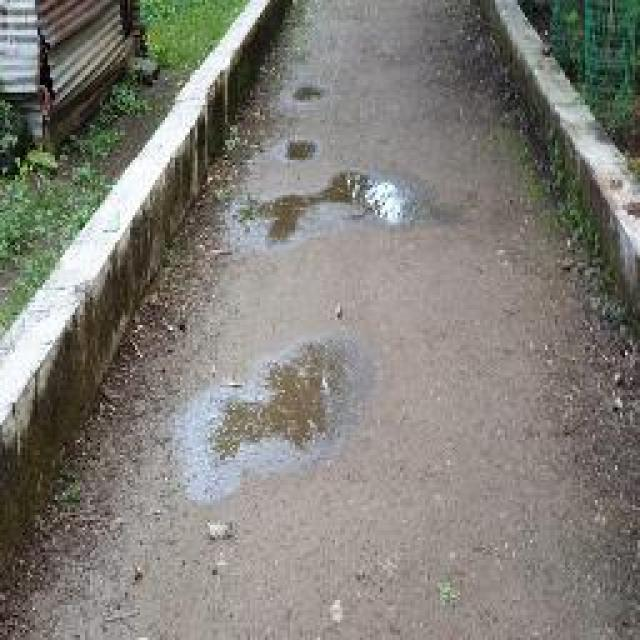stagnation: (189, 324, 381, 497), (227, 156, 447, 264)
